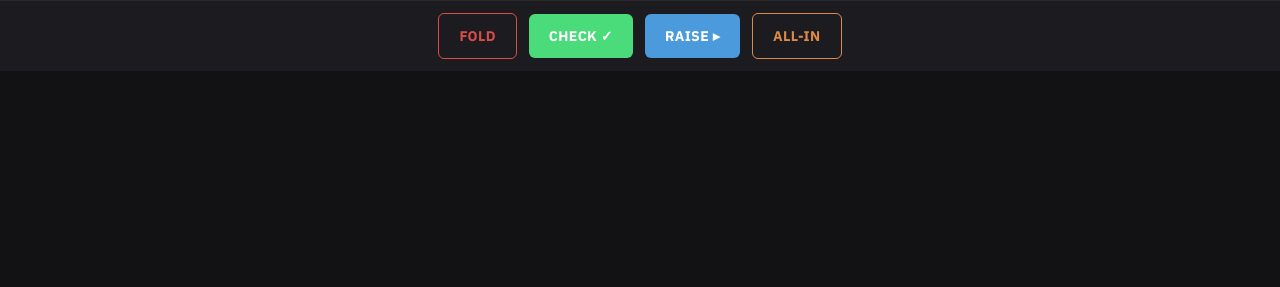
Test: HeroDock › raise button opens RaiseControls panel
Click the button with aria-label "open raise slider": point(693, 36) [645, 14, 740, 58]
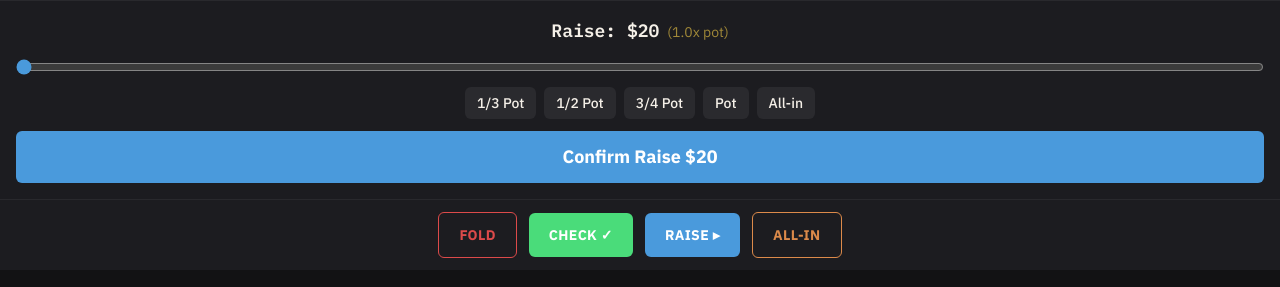
expect the element with test id "raise-controls" is shown: met
